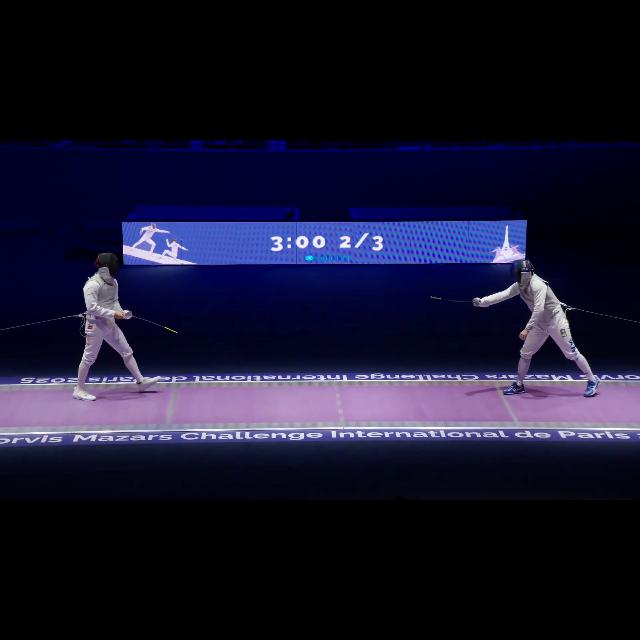blade: (124, 312, 184, 341), (427, 291, 483, 307)
